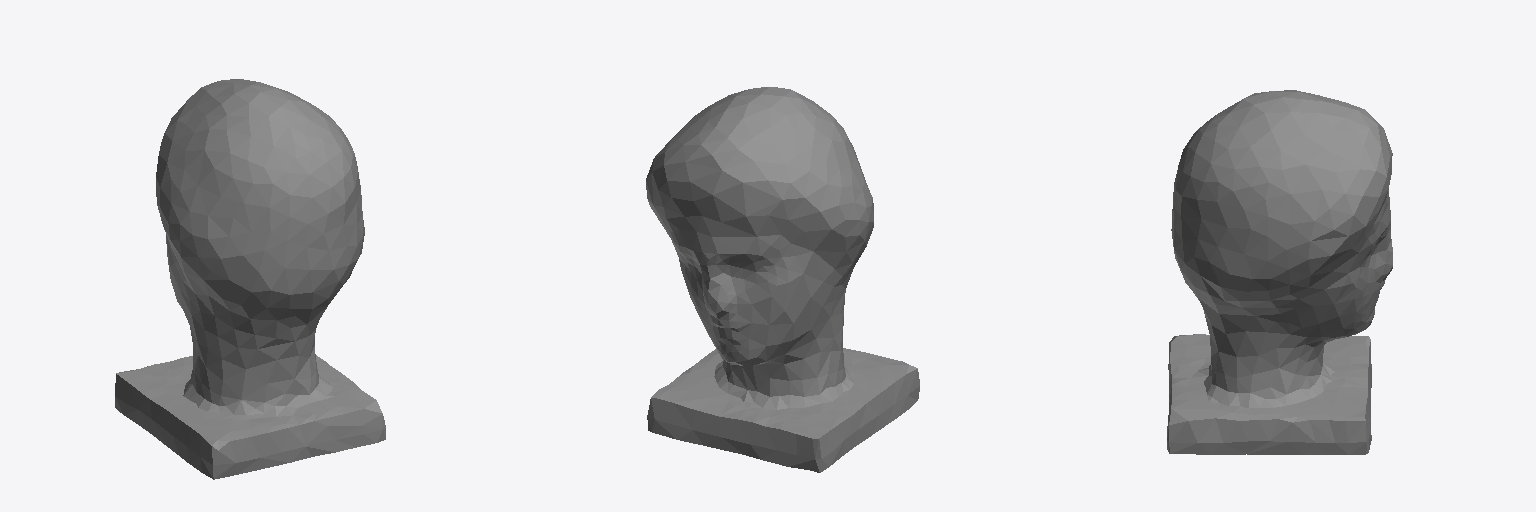
Rendered from greek_girl_head.obj.
3 renders of one model, left to right at view 1: azimuth 30°, elevation 25°; view 2: azimuth 150°, elevation 25°; view 3: azimuth 270°, elevation 25°, orthographic.
Parts seen in each view (by area): view 1: greek_girl_head; view 2: greek_girl_head; view 3: greek_girl_head.
Boxes of the visible parts, x1,y1,x2,y2 form: greek_girl_head: [115, 79, 385, 479]; greek_girl_head: [646, 87, 919, 472]; greek_girl_head: [1167, 90, 1392, 454].
Bounding box in the file's own units: 3.81 × 5.98 × 3.81.